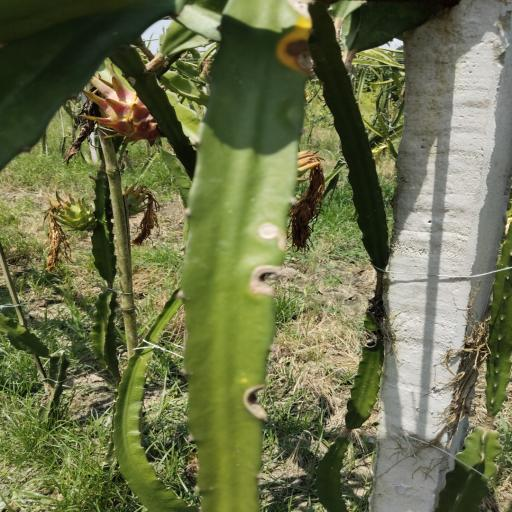stemcanker: (257, 222, 286, 252), (236, 370, 252, 385)
